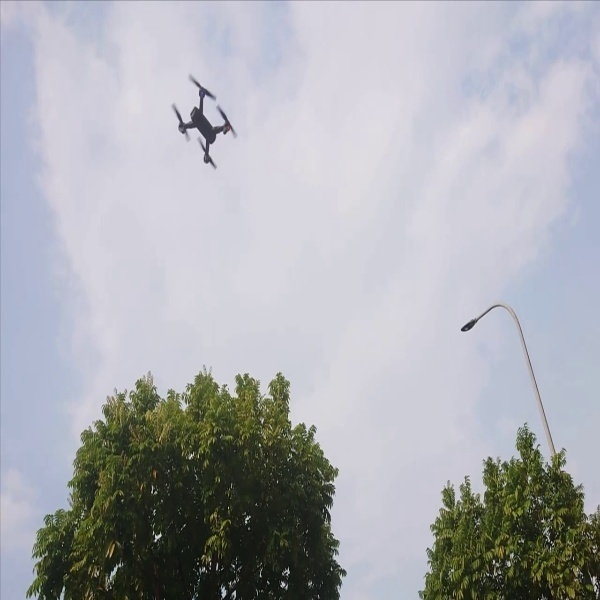drone: (158, 70, 247, 176)
